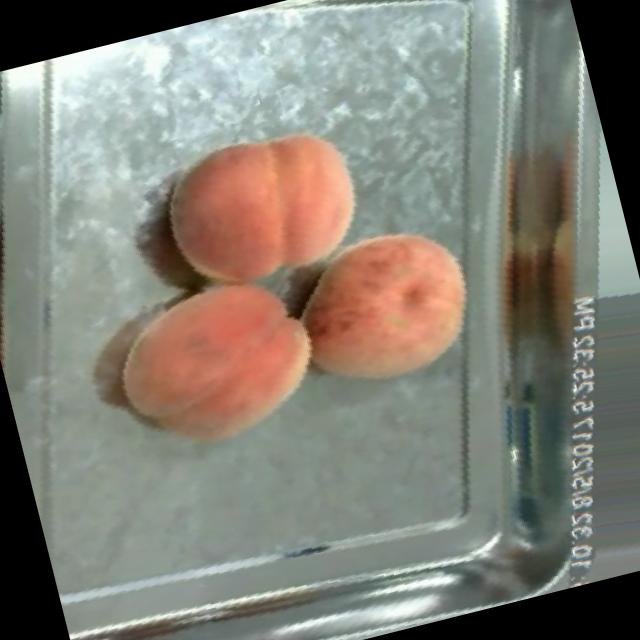Fruit: (125, 86, 398, 328), (84, 238, 347, 477), (262, 191, 508, 420)
